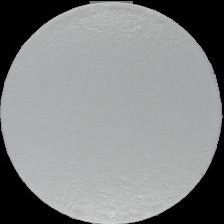63629-3786: (0, 0, 224, 224)
